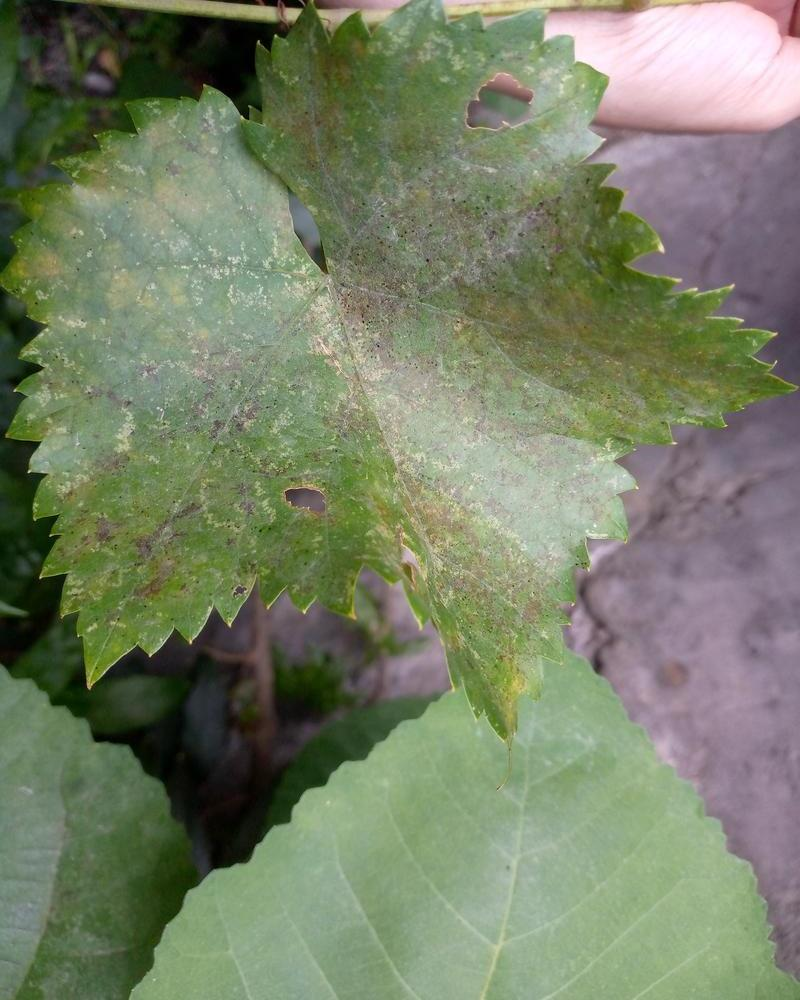Powdery-Mildew: (32, 284, 270, 475), (68, 104, 284, 299), (420, 24, 590, 212), (463, 405, 641, 580), (351, 319, 494, 465), (388, 487, 471, 582), (287, 293, 350, 356), (484, 87, 521, 134)
